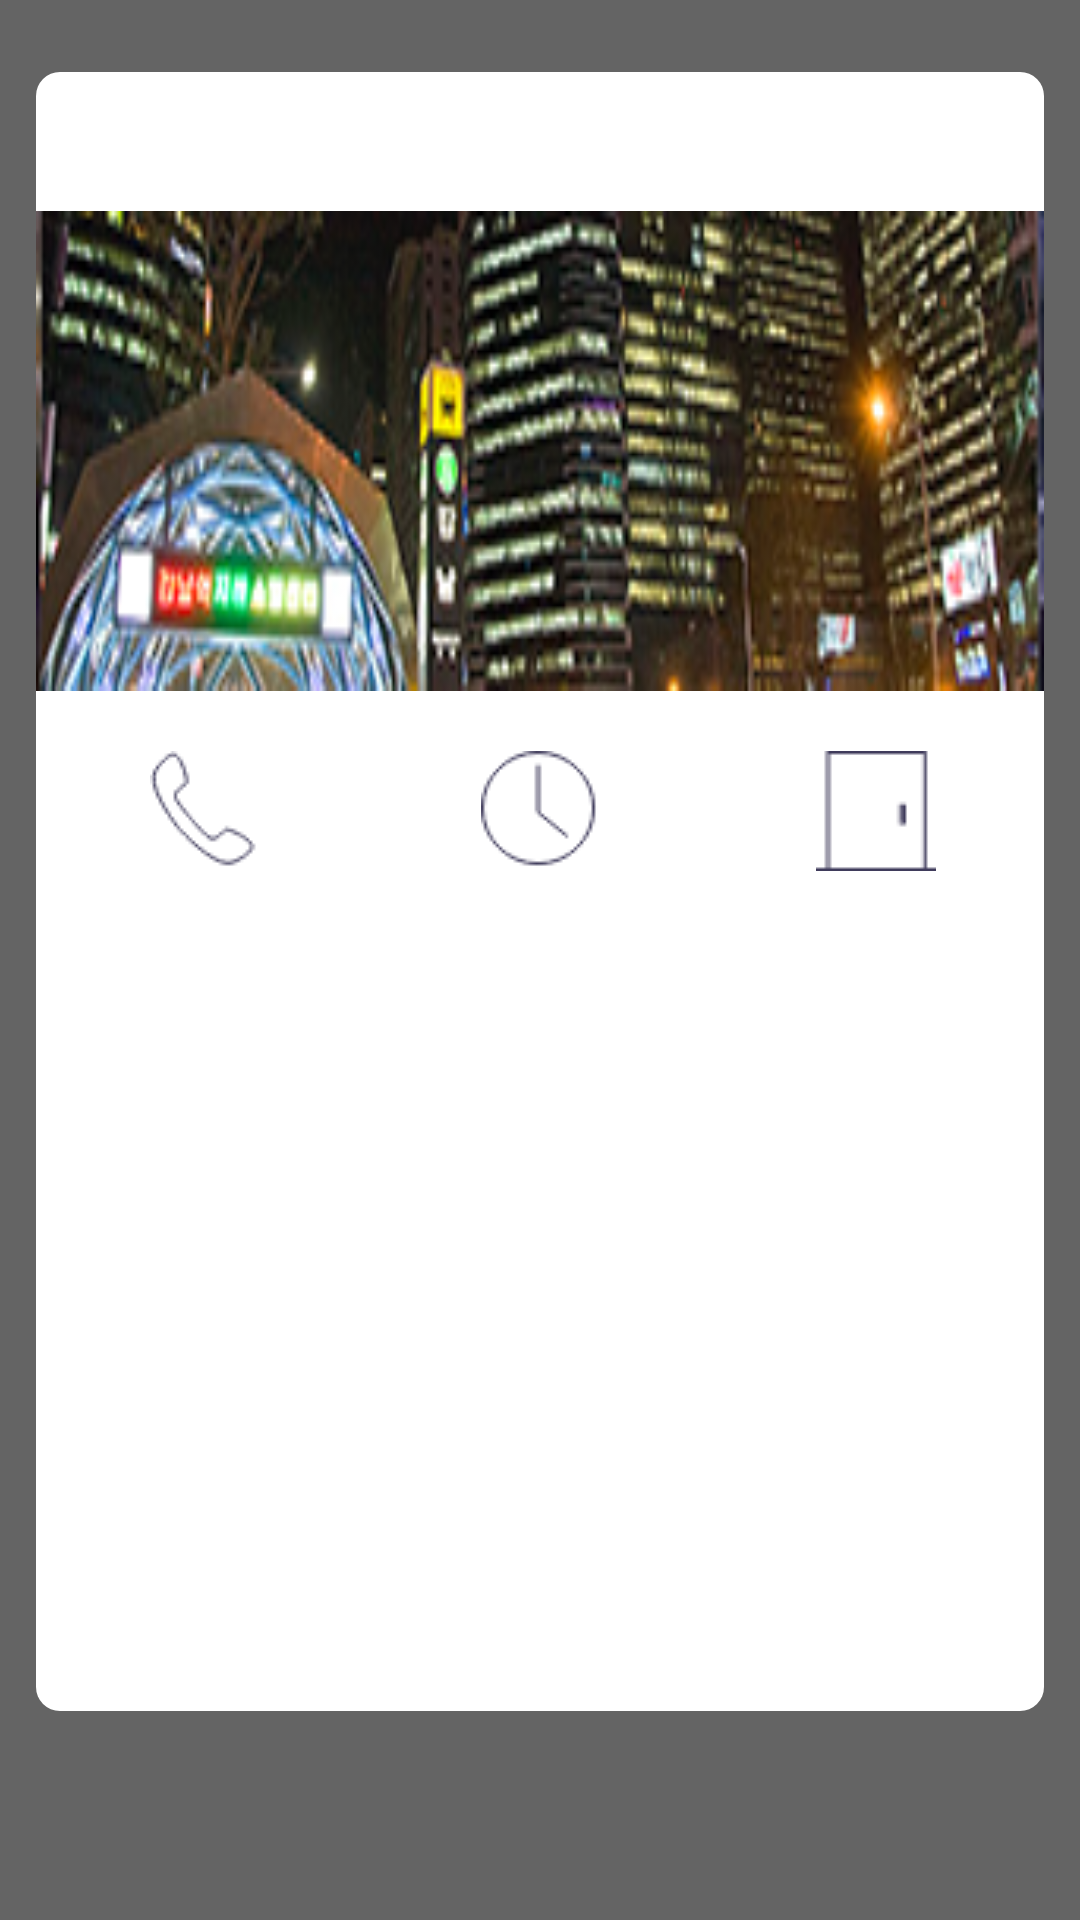

Icons on this 1080w x 1920h Android screen, each with the point to tap as point (x, y):
clock: point (538, 808)
exit: point (876, 811)
phone: point (203, 808)
